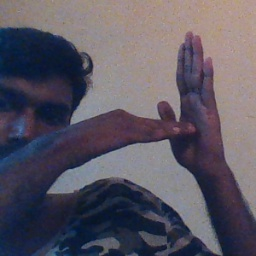Z: (114, 29, 226, 177)
